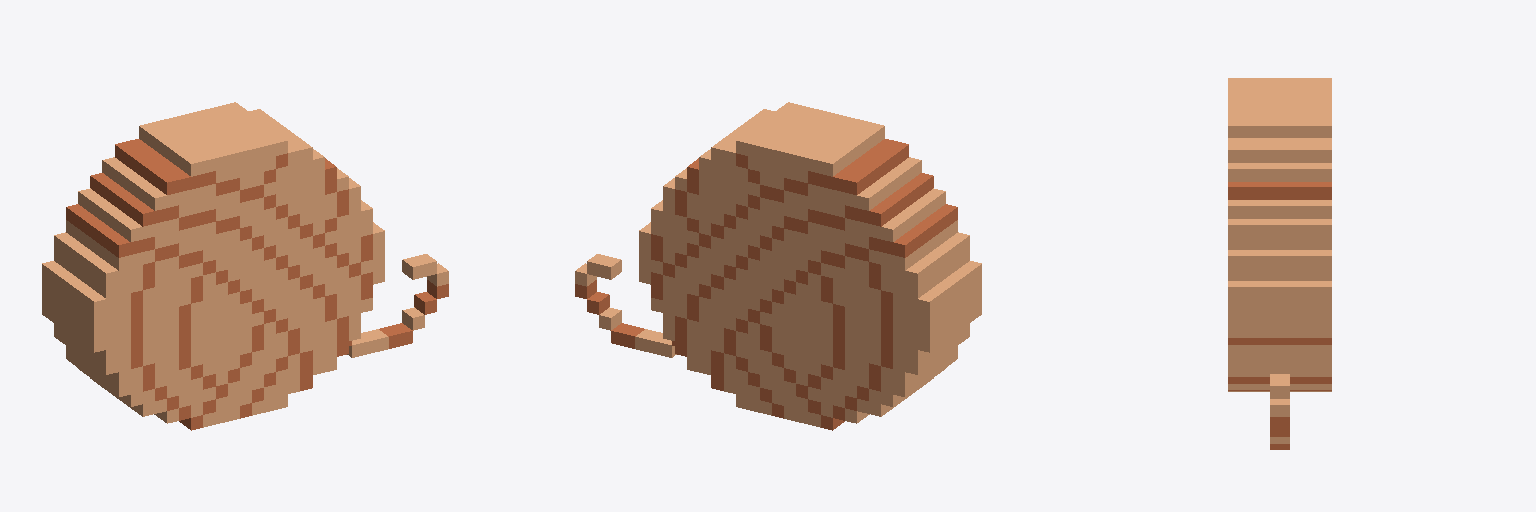
The model's file is TanYarn.obj.
3 renders of one model, left to right at view 1: azimuth 30°, elevation 25°; view 2: azimuth 150°, elevation 25°; view 3: azimuth 270°, elevation 25°, orthographic.
Size of the model in its own units: 31 by 21 by 7.5.